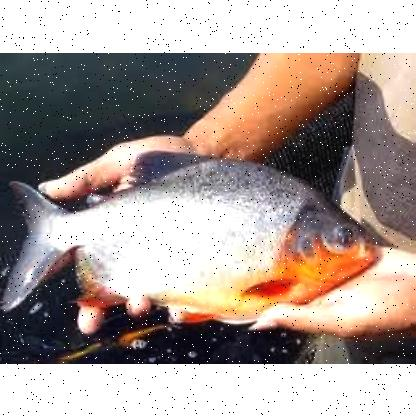ikan-pacu: (0, 148, 378, 312)
